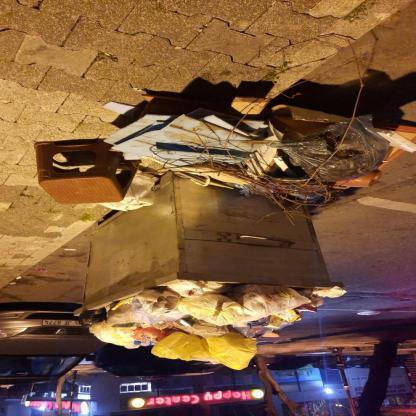Garbage: (96, 288, 314, 362), (107, 288, 330, 351), (114, 92, 246, 170), (282, 124, 390, 184), (155, 332, 264, 374), (233, 288, 310, 320), (86, 322, 146, 352), (171, 292, 237, 319), (114, 170, 156, 212), (117, 306, 175, 320), (168, 284, 230, 294), (314, 289, 352, 299)
